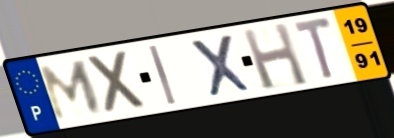H: (239, 20, 311, 92)
I: (145, 43, 179, 107)
M: (37, 58, 105, 123)
T: (290, 14, 336, 83)
X: (186, 32, 255, 100), (84, 47, 151, 117)
